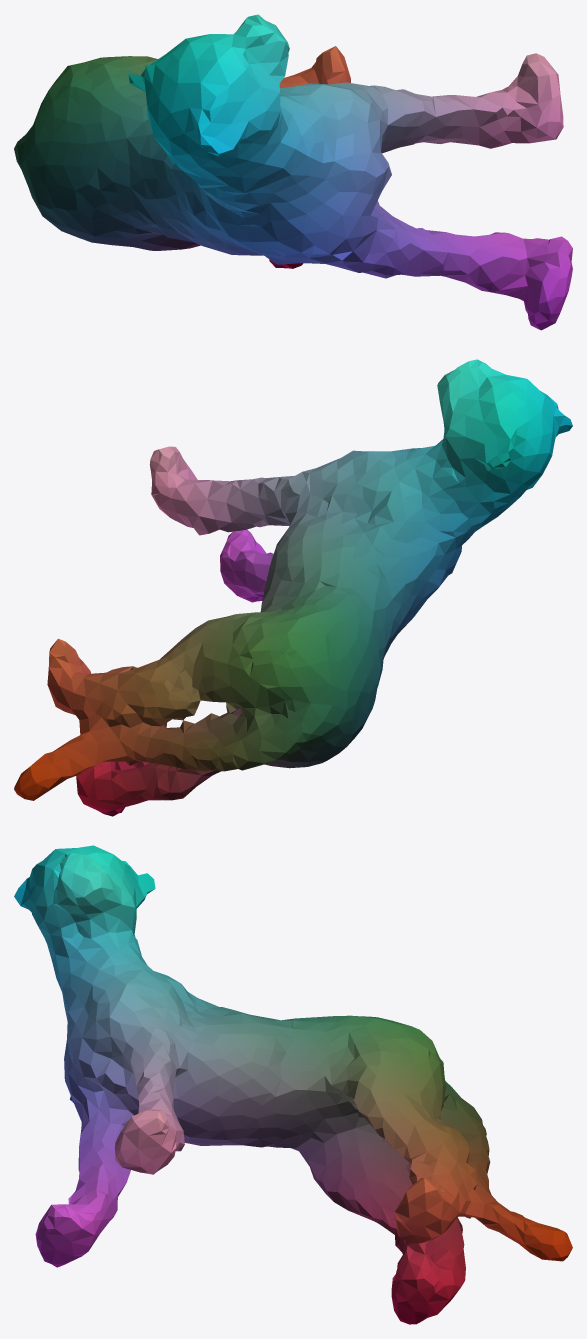
File: corr_dino_source.glb
3 renders of one model, top to bottom at view 1: azimuth 30°, elevation 25°; view 2: azimuth 150°, elevation 25°; view 3: azimuth 270°, elevation 25°, orthographic. The views are drawn at different scales.
Visible parts, largest first — view 1: world; view 2: world; view 3: world.
Boxes of the visible parts, box(x1,y1,x2,y2) form: world: box(14, 14, 572, 330); world: box(14, 359, 572, 816); world: box(14, 845, 572, 1324).
Size of the model in its own units: 1.15 by 1.14 by 1.55.
